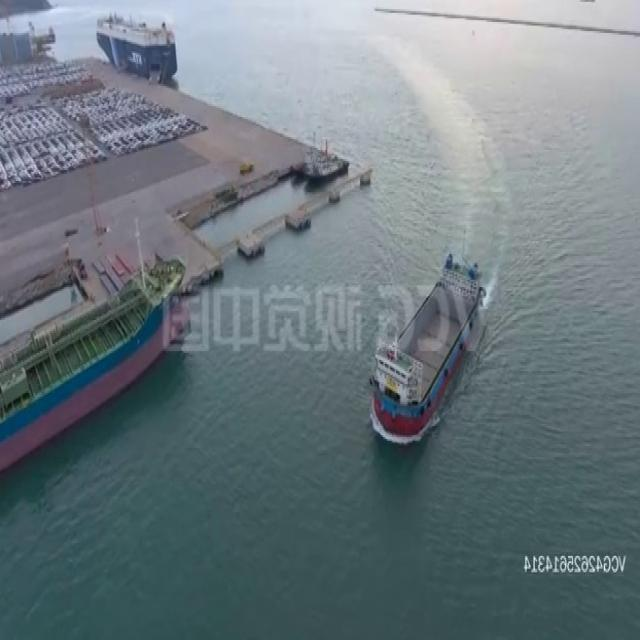cargoship: (0, 256, 184, 470), (368, 246, 489, 434), (98, 5, 178, 80)
houseboat: (292, 136, 348, 184)
